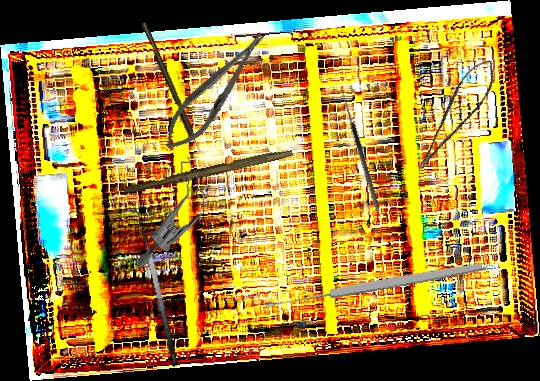Hook Surgical: (140, 21, 203, 155), (332, 86, 382, 214)
Micro Scissor: (399, 53, 508, 173)
Needle Holder: (154, 23, 277, 160)
Scalpel Handle: (123, 144, 293, 198)
Spatula Surgical: (124, 205, 181, 371)
Speculum: (134, 154, 212, 271)
Surgical Spoon: (264, 259, 484, 312)
